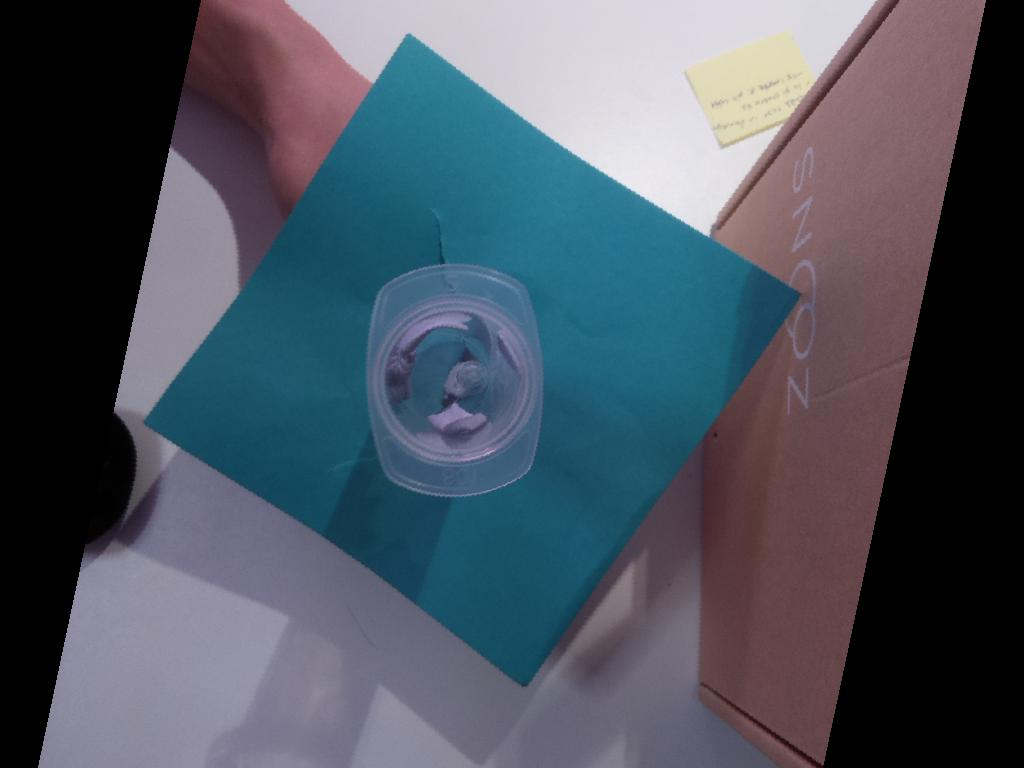dirty: (365, 264, 543, 495)
